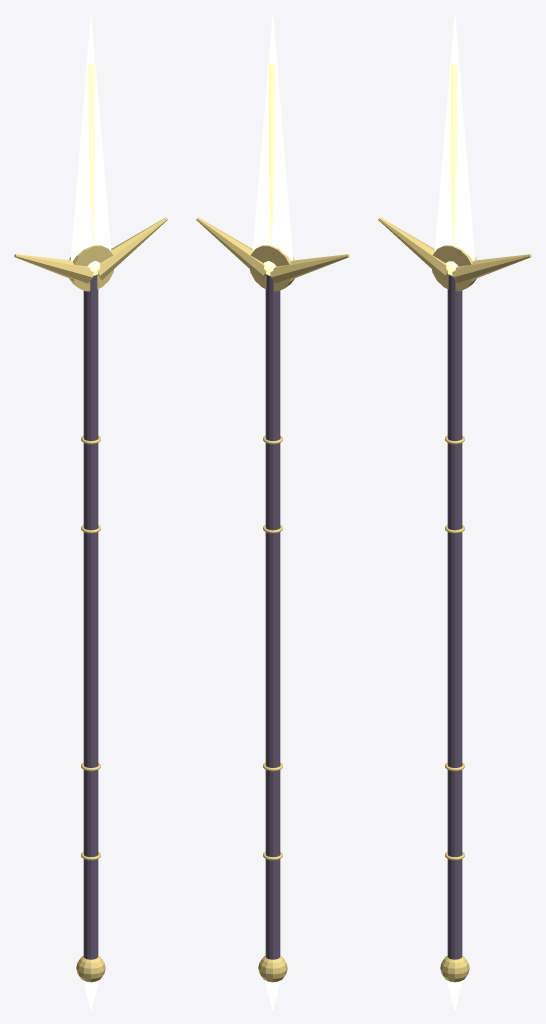
Rendered from spear.glb.
3 views of the same model, side by side, from view 1: azimuth 30°, elevation 25°; view 2: azimuth 150°, elevation 25°; view 3: azimuth 330°, elevation 25° (orthographic).
Parts seen in each view (by area): view 1: Shaft, Blade, Blade_Core, Quillon_-1, Quillon_1, Sun_Disk, Pommel; view 2: Shaft, Blade, Blade_Core, Quillon_-1, Quillon_1, Sun_Disk, Pommel; view 3: Shaft, Blade, Blade_Core, Quillon_1, Quillon_-1, Sun_Disk, Pommel.
Part boxes in pixels (<box>): Shaft: <box>83,275,98,959</box>; Blade: <box>70,14,111,260</box>; Blade_Core: <box>88,62,94,245</box>; Quillon_-1: <box>14,254,93,283</box>; Quillon_1: <box>97,217,167,280</box>; Sun_Disk: <box>69,245,113,291</box>; Pommel: <box>76,956,105,982</box>; Shaft: <box>265,275,280,959</box>; Blade: <box>252,14,293,260</box>; Blade_Core: <box>269,62,275,245</box>; Quillon_-1: <box>270,254,349,283</box>; Quillon_1: <box>196,217,266,280</box>; Sun_Disk: <box>250,245,294,291</box>; Pommel: <box>258,956,287,982</box>; Shaft: <box>447,274,462,959</box>; Blade: <box>434,14,475,260</box>; Blade_Core: <box>451,62,457,245</box>; Quillon_1: <box>452,254,531,283</box>; Quillon_-1: <box>378,217,447,280</box>; Sun_Disk: <box>432,245,476,291</box>; Pommel: <box>440,956,469,982</box>.
Bounding box in the file's own units: 0.538 × 3.35 × 0.09.
